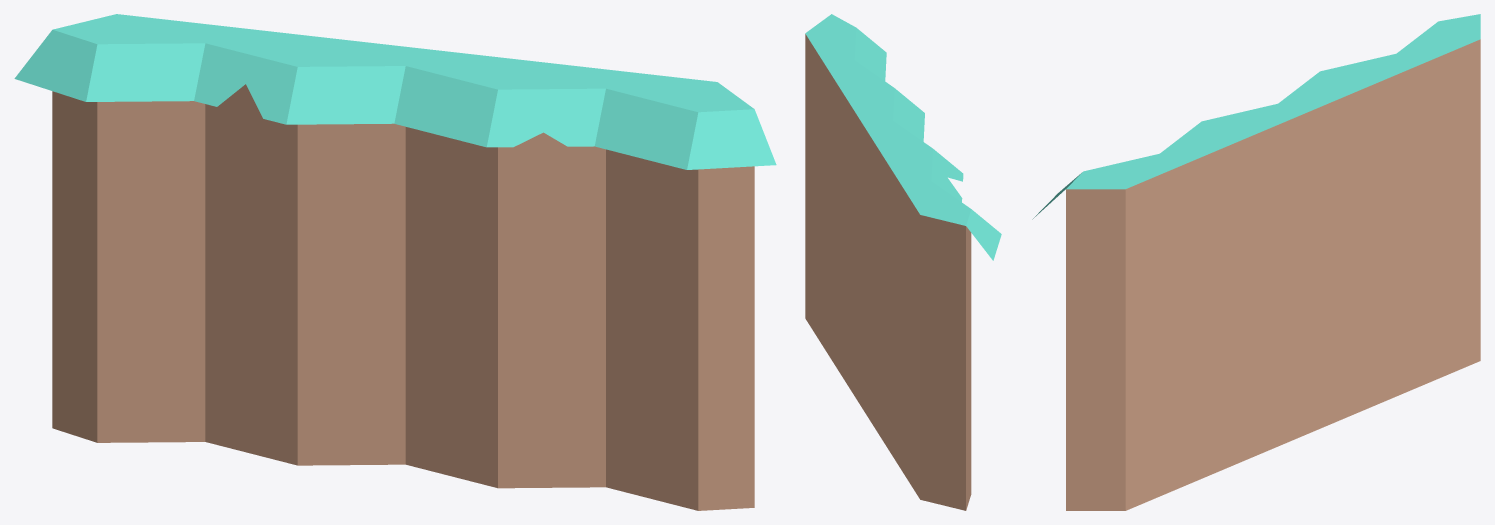
File: cliff_topDiagonal_rock.gltf
3 renders of one model, left to right at view 1: azimuth 30°, elevation 25°; view 2: azimuth 150°, elevation 25°; view 3: azimuth 270°, elevation 25°, orthographic. The views are drawn at different scales.
Visible parts, largest first — view 1: cliff_topDiagonal_rock; view 2: cliff_topDiagonal_rock; view 3: cliff_topDiagonal_rock.
Boxes of the visible parts, x1,y1,x2,y2 form: cliff_topDiagonal_rock: (14, 14, 776, 510); cliff_topDiagonal_rock: (805, 14, 1001, 510); cliff_topDiagonal_rock: (1032, 14, 1480, 510).
Size of the model in its own units: 1.27 by 1 by 1.27.
